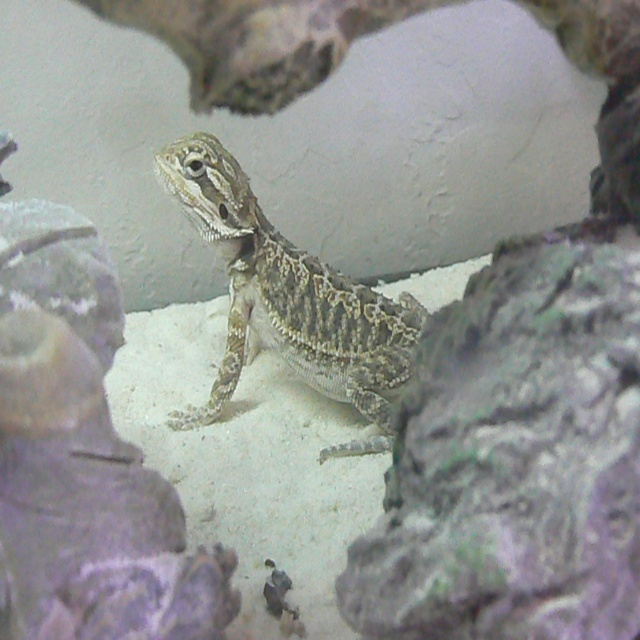Lizard: (146, 132, 454, 484)
